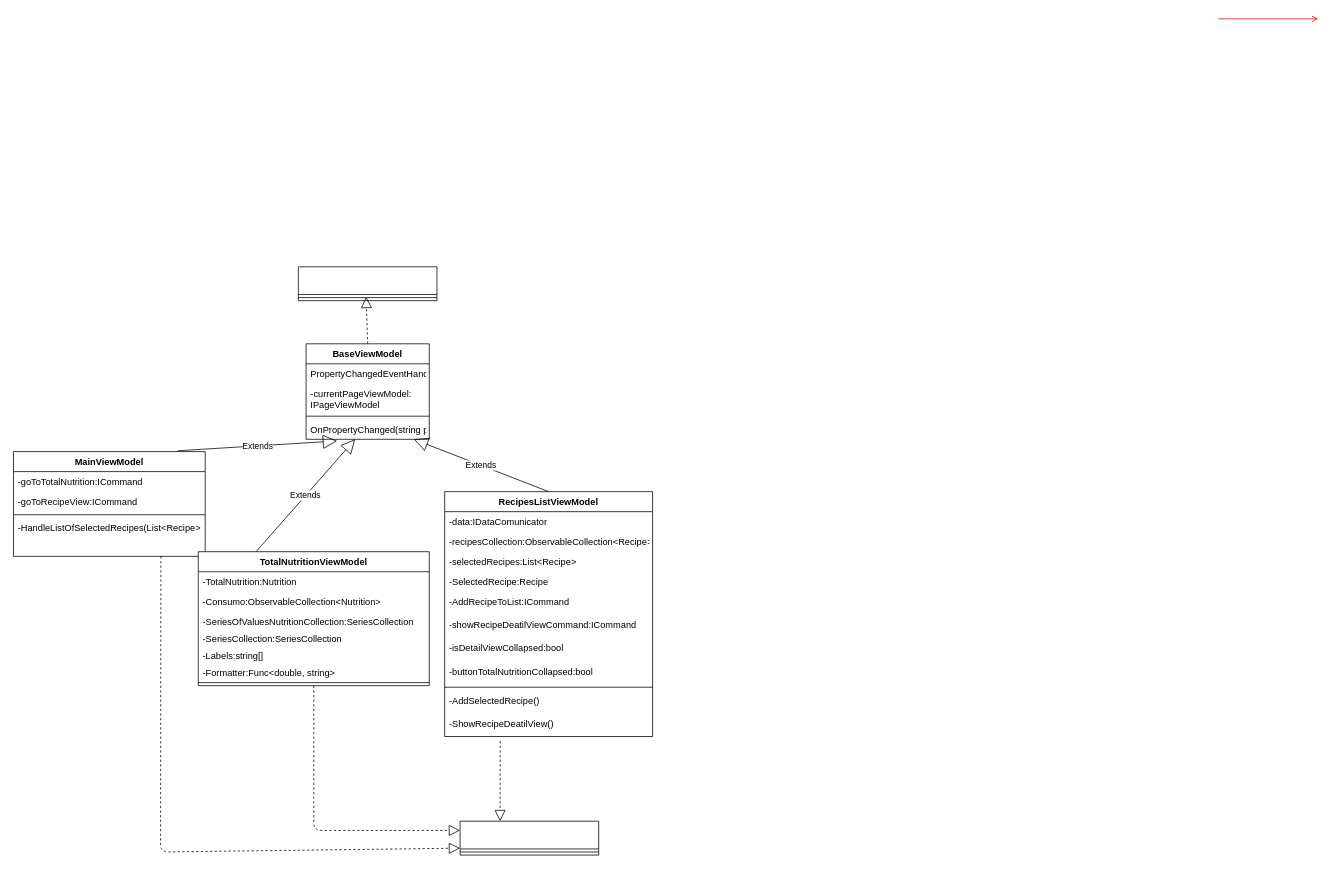
Image size: 1338x876. Some labels were removed from this diagram. Here are the shapes that lost their labels. From the top down, the centre of each, then its label:
At [367,283]: "«interface» INotifyPropertyChanged".
At [529,837]: "«interface» IPageViewModel".
